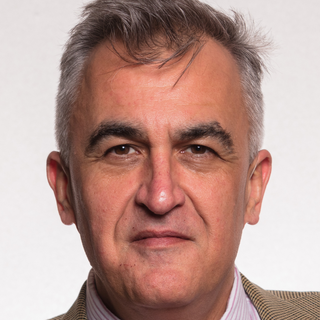eye: (177, 139, 223, 164), (97, 139, 144, 163)
